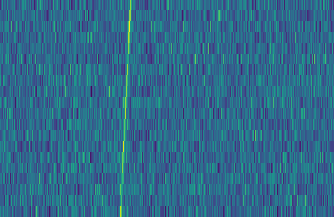signal: (114, 0, 133, 217)
